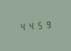five: (34, 20, 41, 30)
four: (26, 20, 33, 31), (18, 21, 25, 31)
nine: (42, 19, 49, 29)
